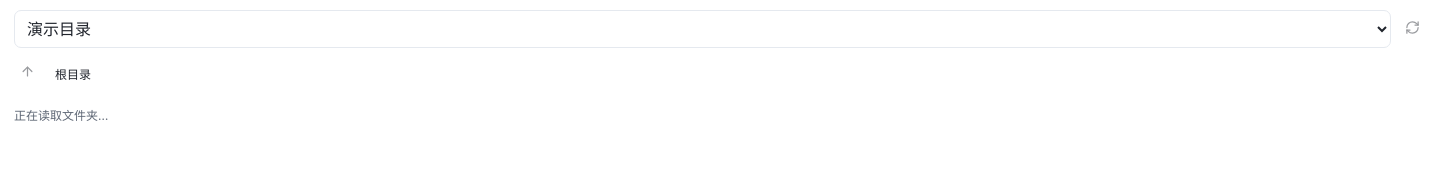
Test: stale response never replaces a newly selected workspace
The image size is (1436, 174).
Select "其他目录" in the dropdown at (702,29), box [14,10,1391,48]
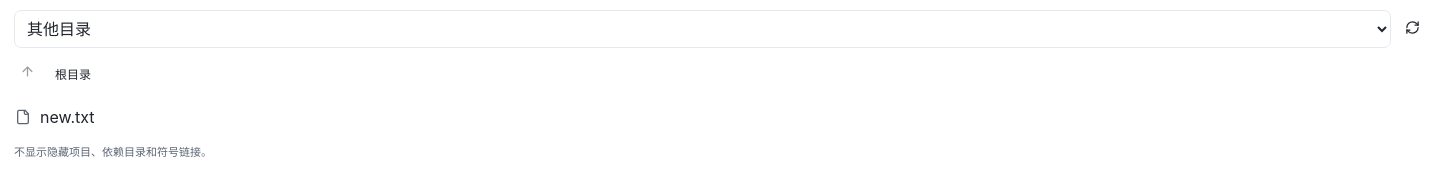
expect the text "new.txt" is shown: met, box [40,107,94,127]
